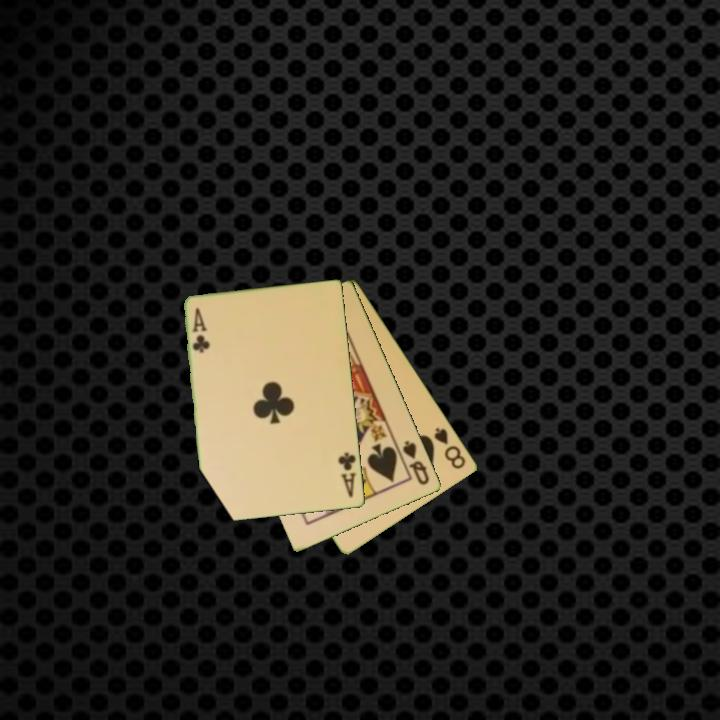8s: (431, 424, 469, 472)
Ac: (335, 449, 359, 500), (189, 305, 212, 356)
Qs: (399, 437, 433, 488)
